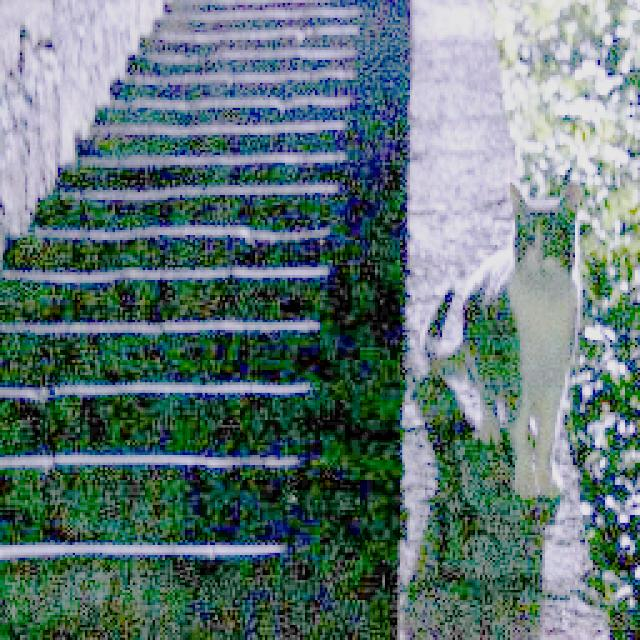cat: (420, 187, 586, 510)
